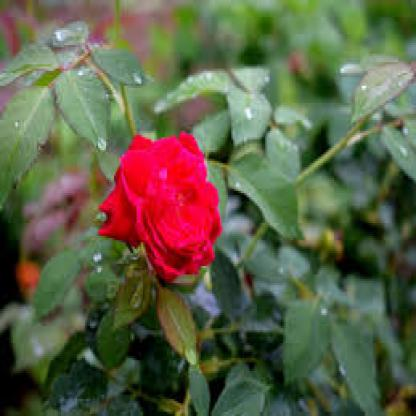Rose-Mawar: (97, 123, 231, 282)
